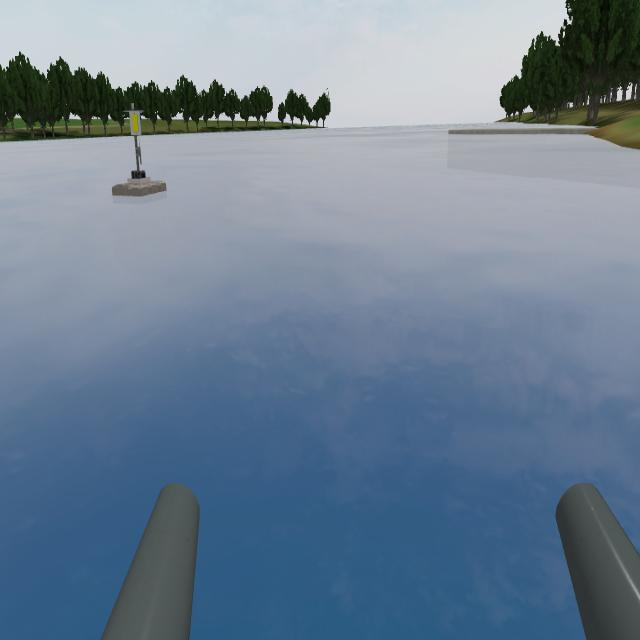yellow_pole: (127, 100, 141, 138)
